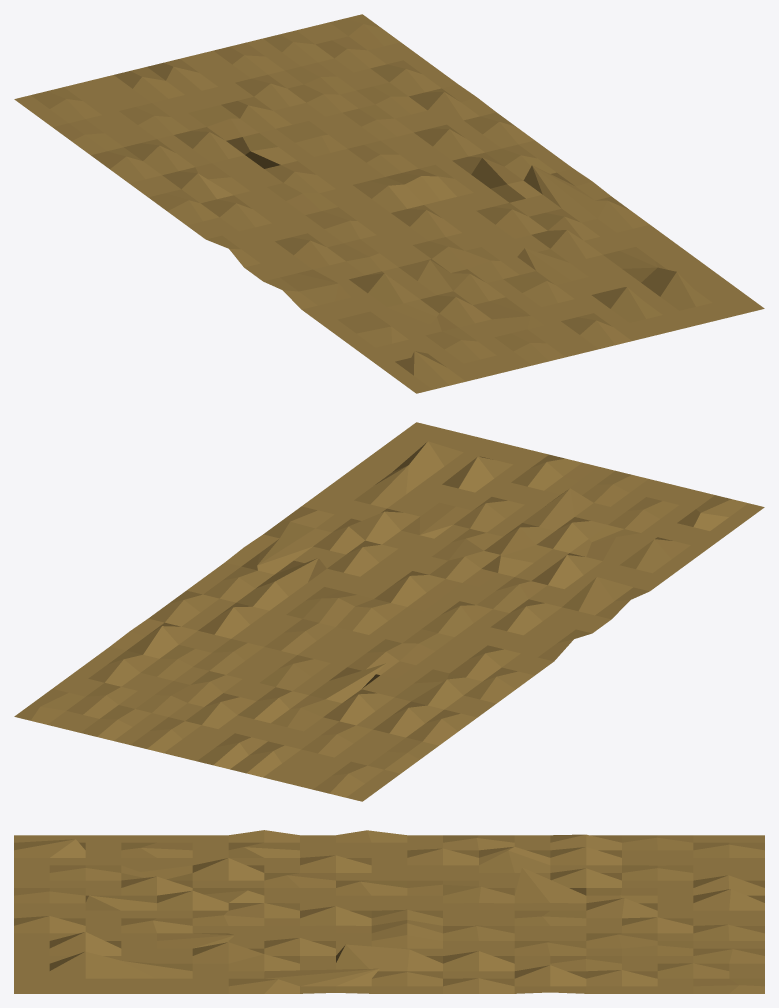
The model's file is beachterrain1 2.glb.
The picture shows the model from 3 angles, top to bottom: view 1: azimuth 30°, elevation 25°; view 2: azimuth 150°, elevation 25°; view 3: azimuth 270°, elevation 25°; orthographic projection. The views are drawn at different scales.
Parts seen in each view (by area): view 1: Plane; view 2: Plane; view 3: Plane.
Boxes of the visible parts, x1,y1,x2,y2 form: Plane: (14,14,764,393); Plane: (14,422,764,801); Plane: (14,830,764,993).
Bounding box in the file's own units: 20 × 1.31 × 40.
